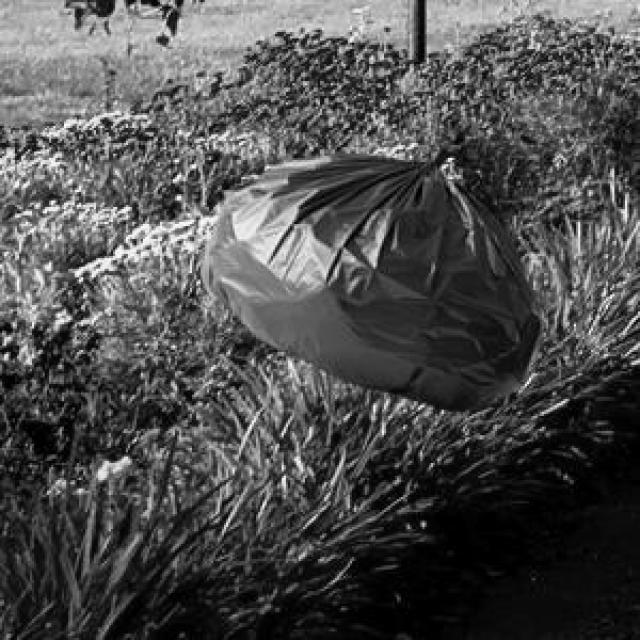miscellaneous trash: (196, 117, 540, 408)
